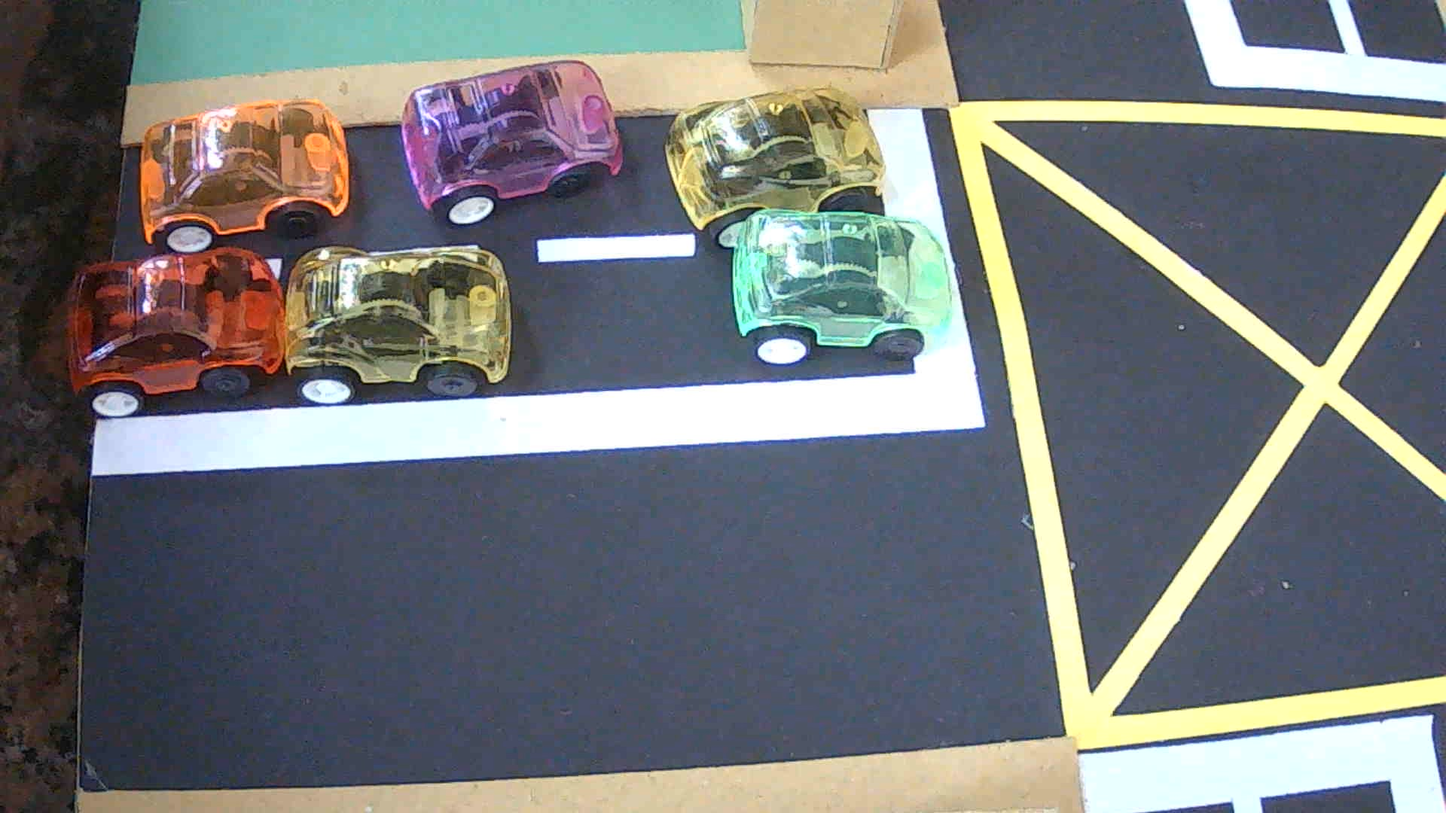Mobil hijau: (732, 209, 951, 365)
Mobil kuning: (285, 245, 512, 403), (665, 87, 885, 250)
Mobil merah: (67, 248, 284, 416)
Mobil orange: (139, 100, 349, 252)
Mobil ungu: (401, 60, 622, 226)
